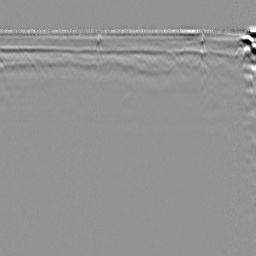cavity: (117, 90, 142, 112)
